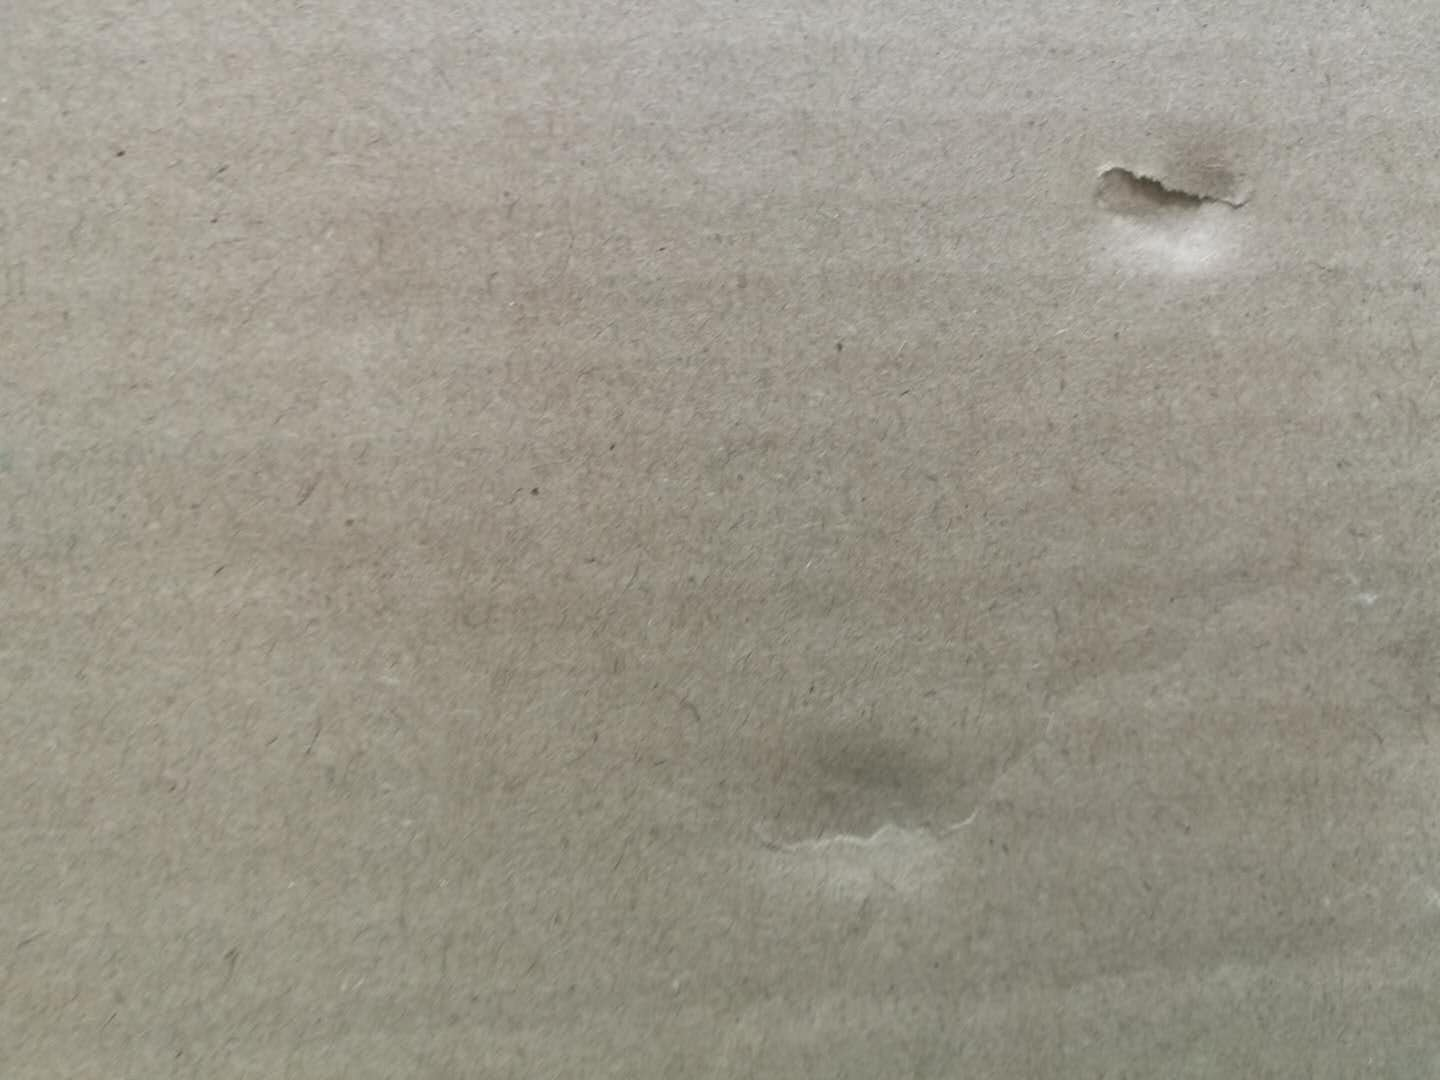defect: (680, 653, 1056, 950), (1058, 121, 1279, 284)
